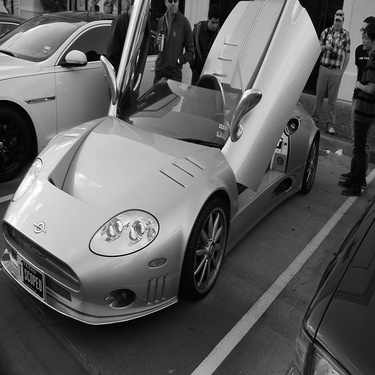car: (4, 1, 327, 321), (1, 13, 199, 152)
